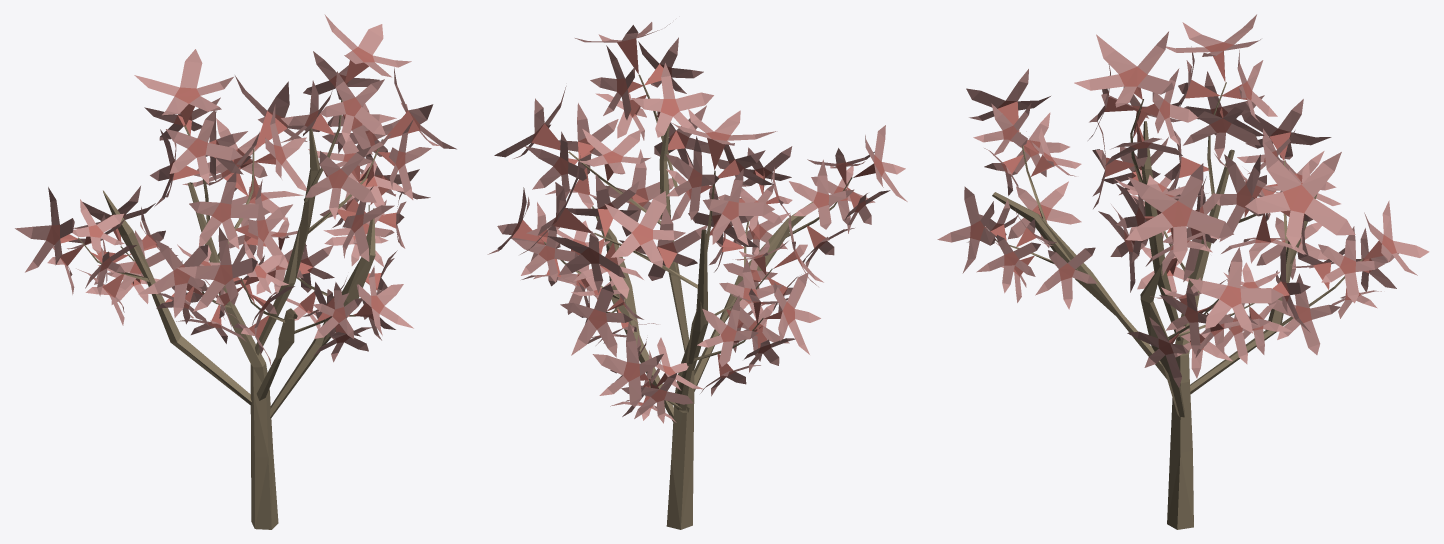
The model's file is Peach_3_3.fbx.
The picture shows the model from 3 angles, left to right: view 1: azimuth 30°, elevation 25°; view 2: azimuth 150°, elevation 25°; view 3: azimuth 270°, elevation 25°; orthographic projection. The views are drawn at different scales.
Visible parts, largest first — view 1: Peach_3_3; view 2: Peach_3_3; view 3: Peach_3_3.
Part boxes in pixels (box(x1,y1,x2,y2)): Peach_3_3: box(15, 14, 456, 529); Peach_3_3: box(487, 22, 907, 529); Peach_3_3: box(937, 14, 1429, 529).
Size of the model in its own units: 319 by 418 by 359.
